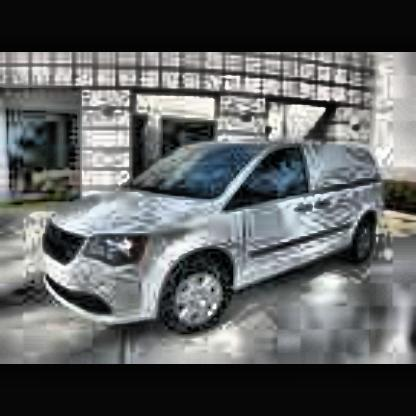Ram C-V Cargo Van Minivan 2012: (38, 139, 390, 341)
